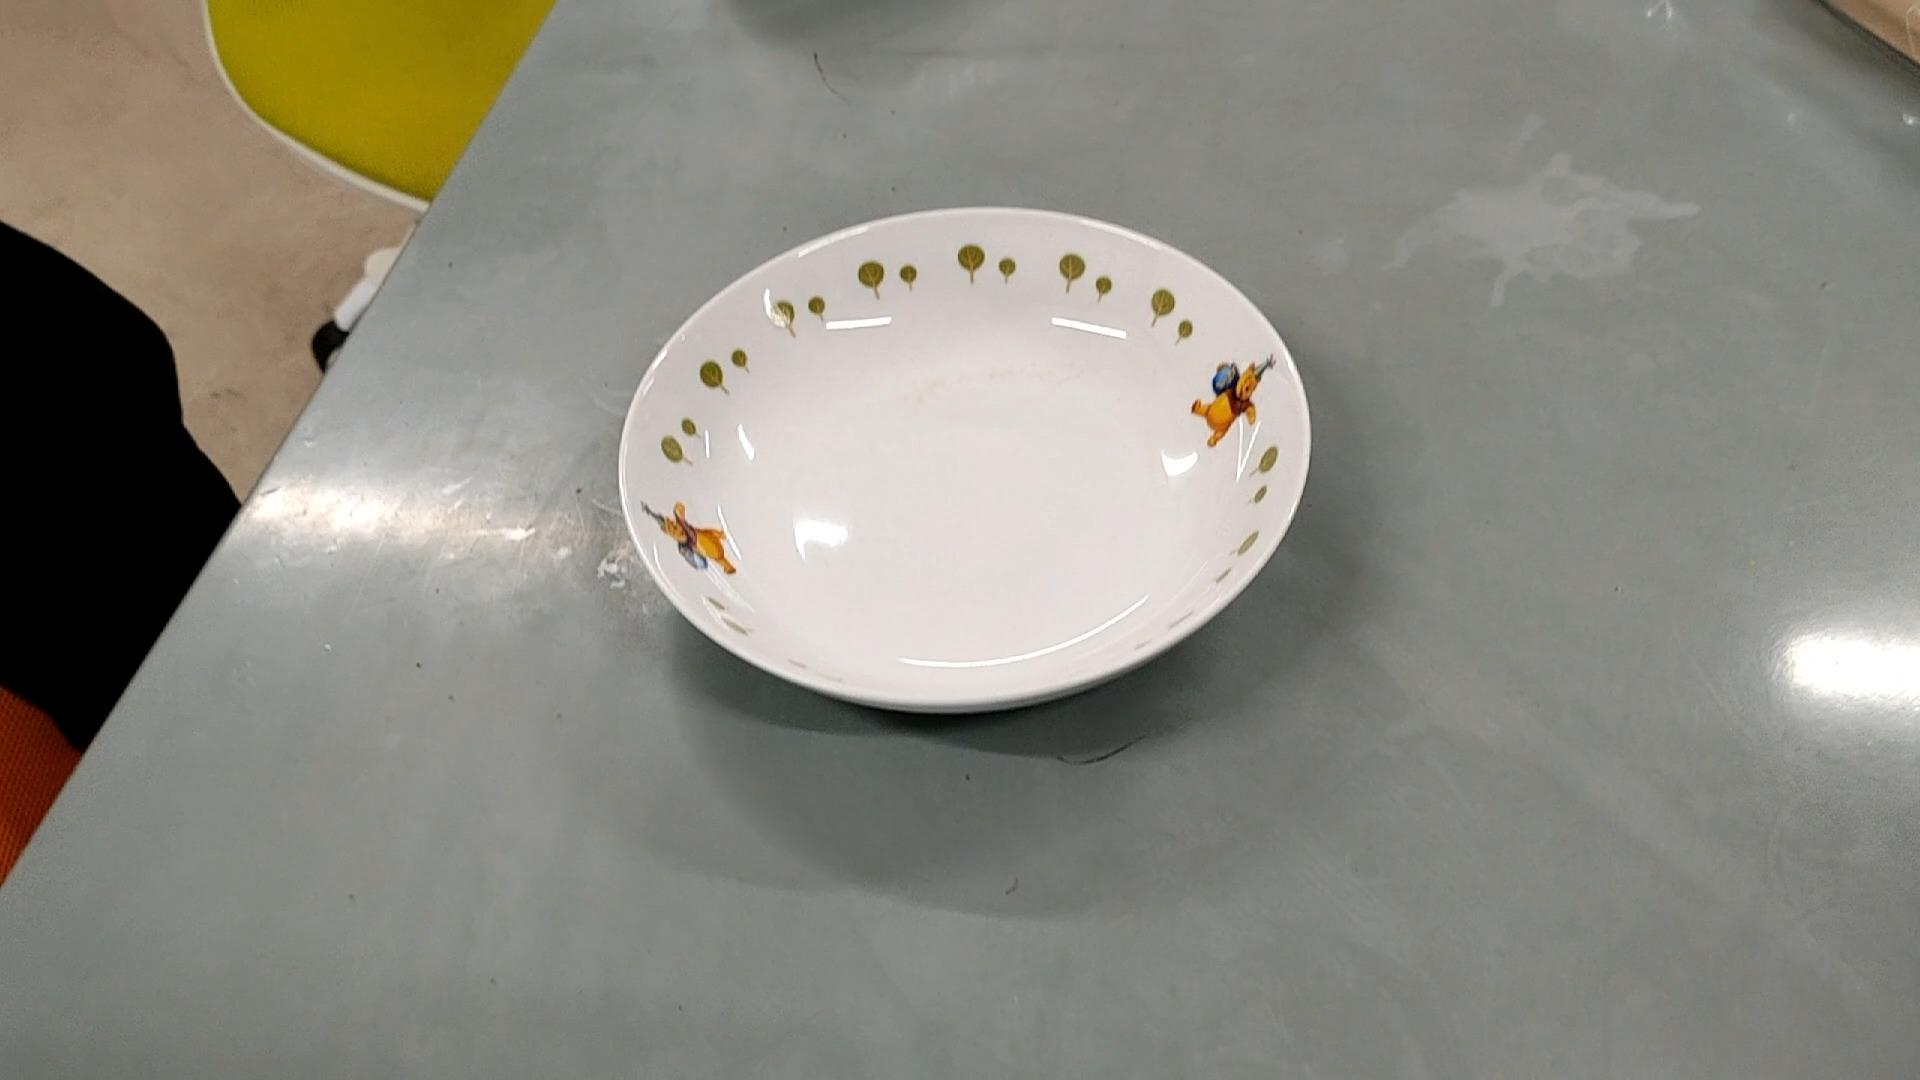plate: (622, 208, 1317, 716)
